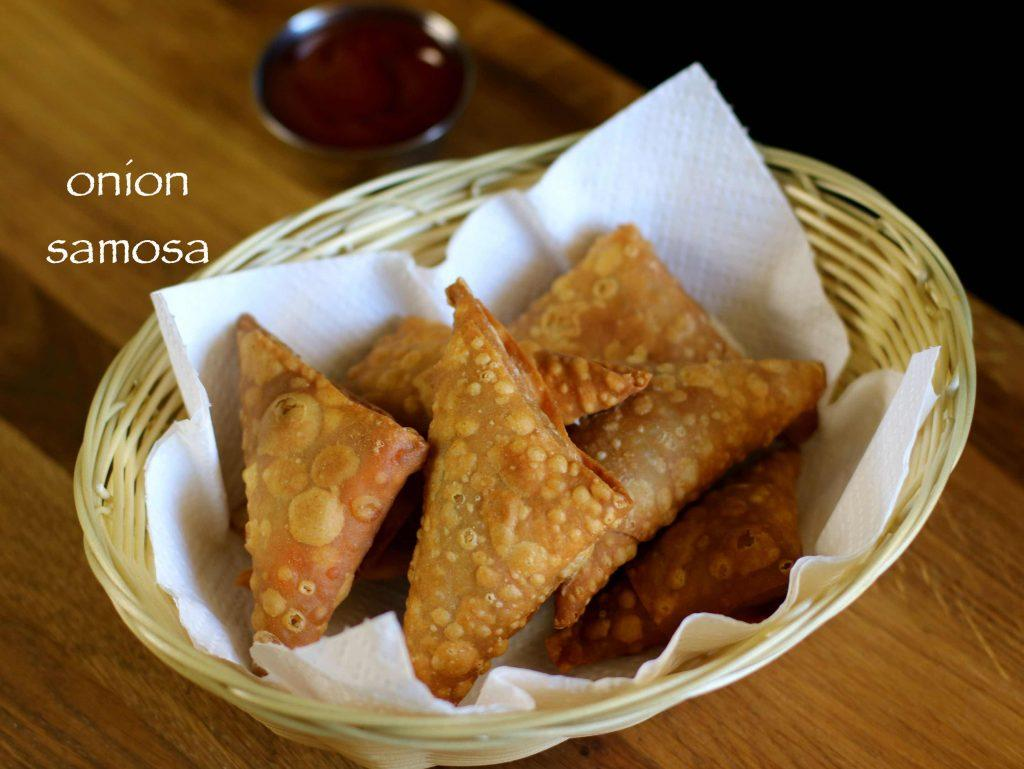samosa: (404, 280, 632, 701), (236, 314, 428, 645), (569, 360, 826, 542), (510, 224, 738, 363), (310, 444, 360, 487)
